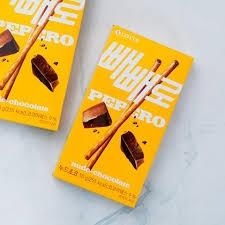snack: (52, 23, 195, 209)
